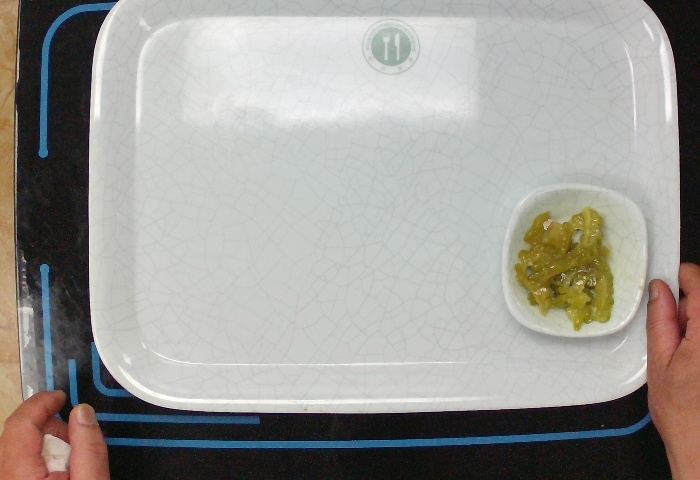JYsf-Si_Fang_Die: (498, 179, 650, 340)
